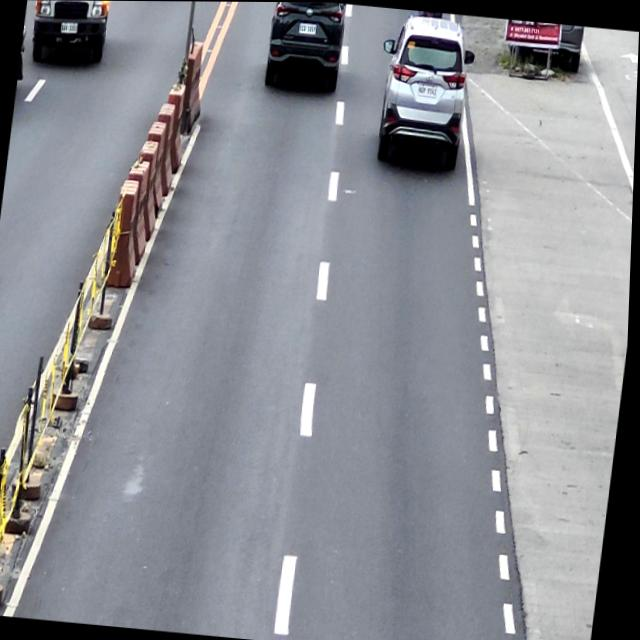Car: (370, 12, 480, 169), (262, 2, 347, 93)
License-Plate: (416, 82, 438, 98), (298, 23, 316, 35)
